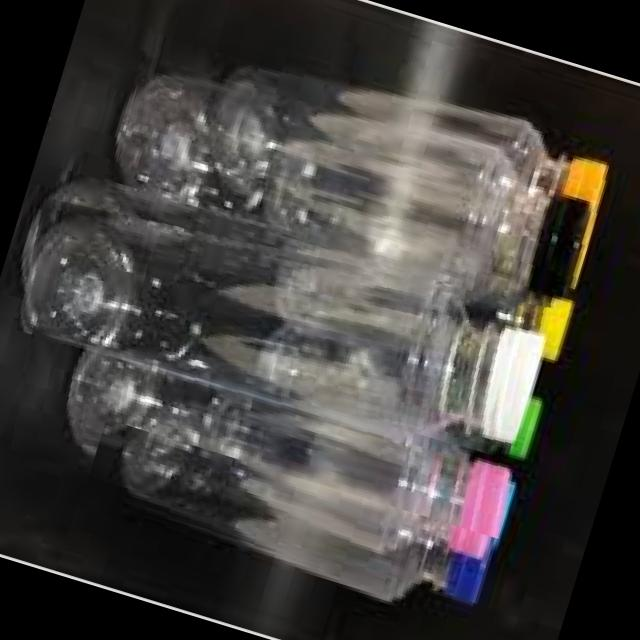plastic bottle: (4, 156, 552, 478), (105, 0, 621, 319), (0, 314, 520, 592), (80, 418, 514, 622)
